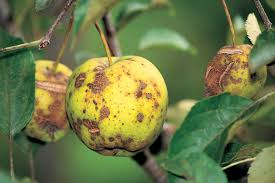damaged_apple: (68, 57, 167, 154), (19, 61, 76, 146), (204, 42, 269, 104)
